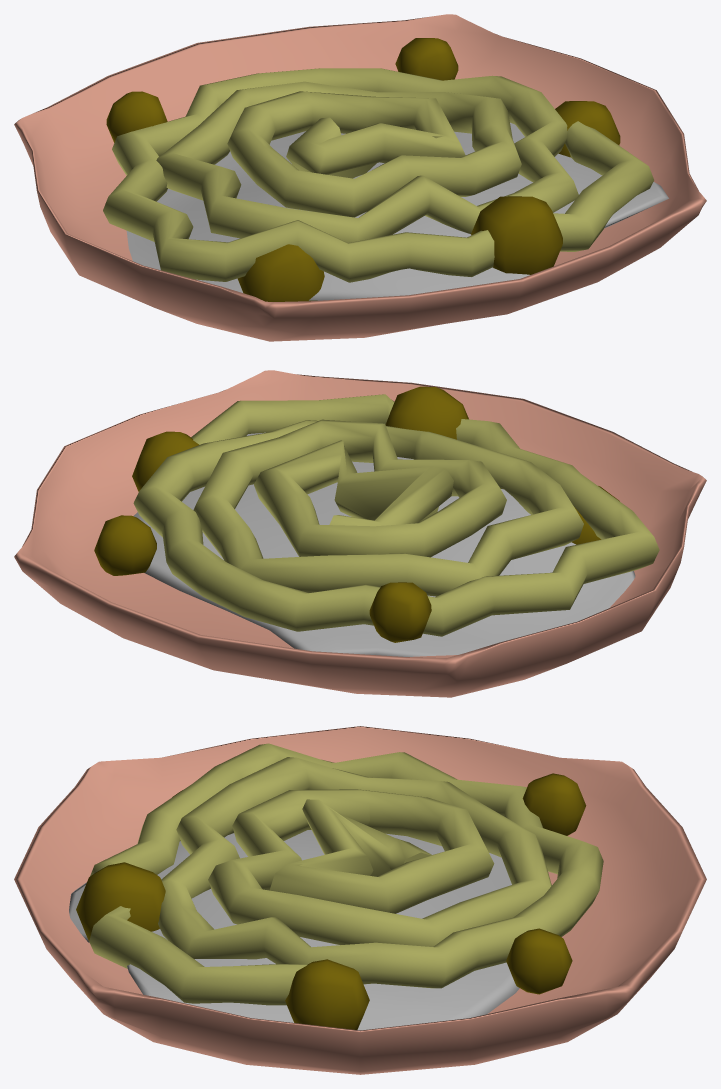
The model's file is Spaghetti_Middle_03.fbx.
The picture shows the model from 3 angles, top to bottom: view 1: azimuth 30°, elevation 25°; view 2: azimuth 150°, elevation 25°; view 3: azimuth 270°, elevation 25°; orthographic projection. The views are drawn at different scales.
Visible parts, largest first — view 1: spaghetti_dishes:piece06, spaghetti_dishes:plate, spaghetti_dishes:salsa3, spaghetti_dishes:pCube4, spaghetti_dishes:pCube10, spaghetti_dishes:pCube8, spaghetti_dishes:pCube9, spaghetti_dishes:pCube7; view 2: spaghetti_dishes:piece06, spaghetti_dishes:plate, spaghetti_dishes:salsa3, spaghetti_dishes:pCube9, spaghetti_dishes:pCube8, spaghetti_dishes:pCube4, spaghetti_dishes:pCube7; view 3: spaghetti_dishes:piece06, spaghetti_dishes:plate, spaghetti_dishes:salsa3, spaghetti_dishes:pCube7, spaghetti_dishes:pCube4, spaghetti_dishes:pCube8, spaghetti_dishes:pCube9.
Boxes of the visible parts, x1,y1,x2,y2 form: spaghetti_dishes:piece06: [103, 68, 654, 282]; spaghetti_dishes:plate: [14, 14, 706, 341]; spaghetti_dishes:salsa3: [126, 122, 668, 300]; spaghetti_dishes:pCube4: [471, 196, 562, 274]; spaghetti_dishes:pCube10: [237, 244, 324, 301]; spaghetti_dishes:pCube8: [395, 38, 458, 80]; spaghetti_dishes:pCube9: [106, 91, 167, 142]; spaghetti_dishes:pCube7: [555, 101, 620, 157]; spaghetti_dishes:piece06: [133, 394, 659, 636]; spaghetti_dishes:plate: [14, 370, 706, 697]; spaghetti_dishes:salsa3: [133, 432, 635, 656]; spaghetti_dishes:pCube9: [369, 582, 431, 642]; spaghetti_dishes:pCube8: [94, 515, 156, 575]; spaghetti_dishes:pCube4: [385, 386, 468, 439]; spaghetti_dishes:pCube7: [132, 431, 199, 491]; spaghetti_dishes:piece06: [89, 743, 603, 1005]; spaghetti_dishes:plate: [14, 726, 706, 1074]; spaghetti_dishes:salsa3: [69, 830, 519, 1030]; spaghetti_dishes:pCube7: [285, 959, 369, 1029]; spaghetti_dishes:pCube4: [76, 862, 165, 940]; spaghetti_dishes:pCube8: [506, 928, 572, 994]; spaghetti_dishes:pCube9: [522, 773, 586, 835].
Bounding box in the file's own units: 10.63 × 2.18 × 10.15.
